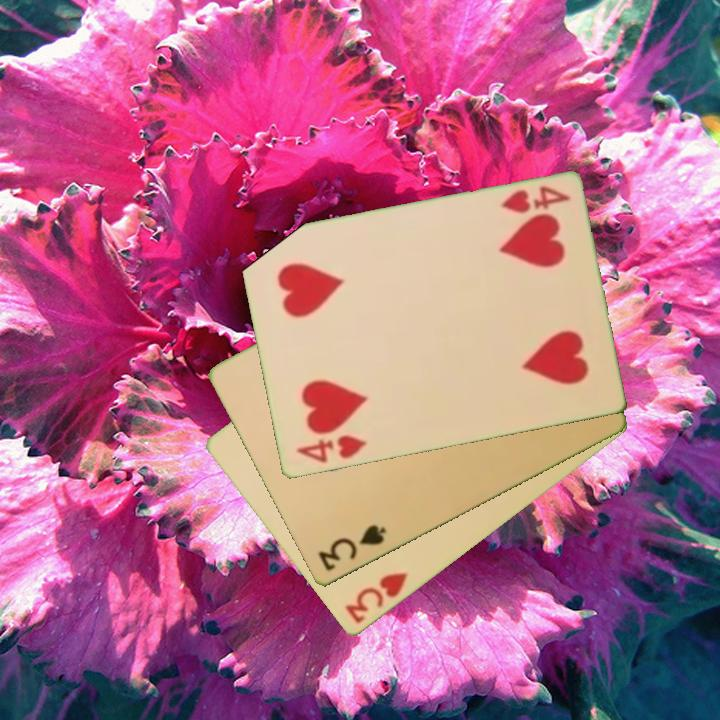3h: (341, 569, 411, 627)
3s: (314, 521, 389, 575)
4h: (292, 432, 370, 467), (498, 183, 573, 217)
